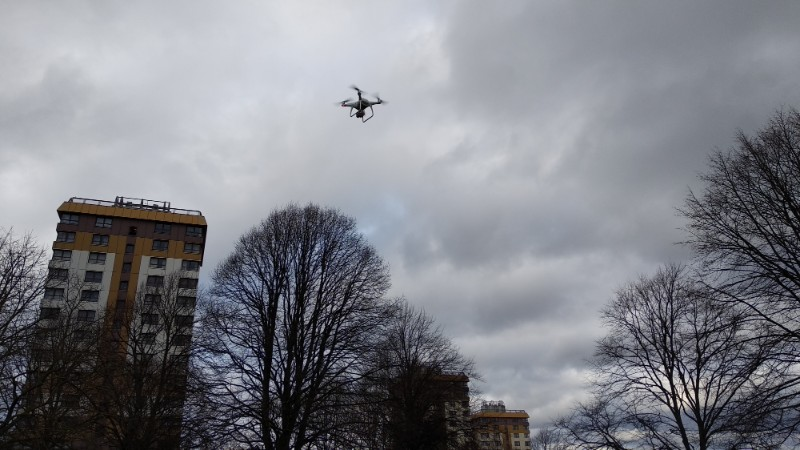drone: (337, 86, 389, 122)
